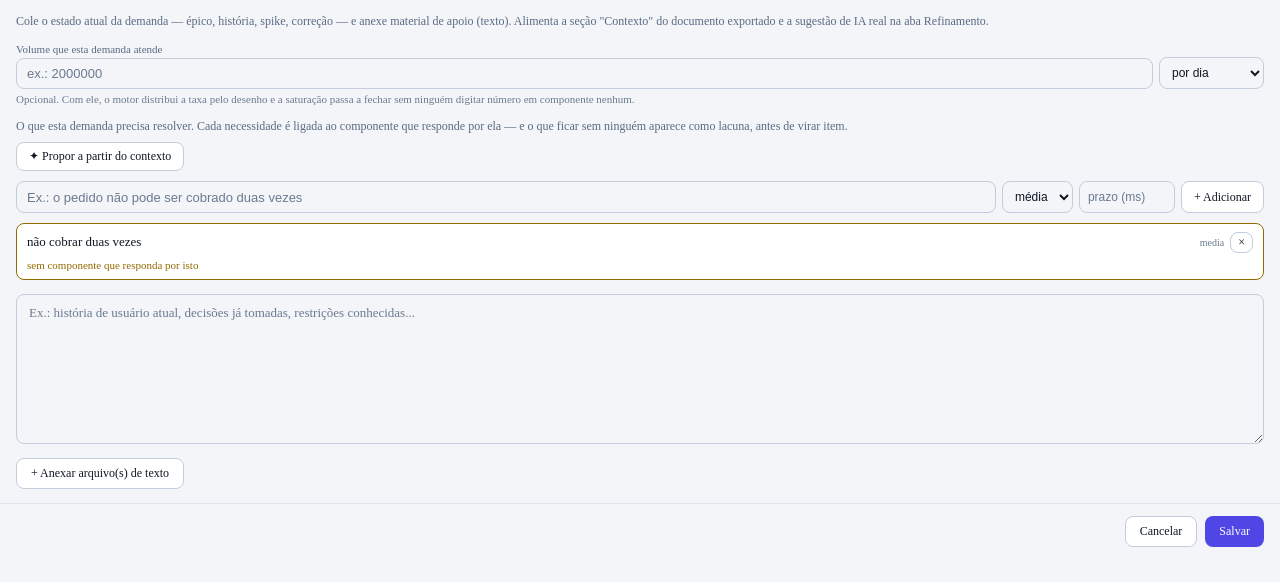
it: ContextoEpicoPanel — a proposta do agente (SPEC-57 fatia D) › falha do agente é dita ali, e não apaga o que já estava escrito
The image size is (1280, 582).
Click the button "✦ Propor a partir do contexto" at (100, 156), box [16, 142, 184, 171]
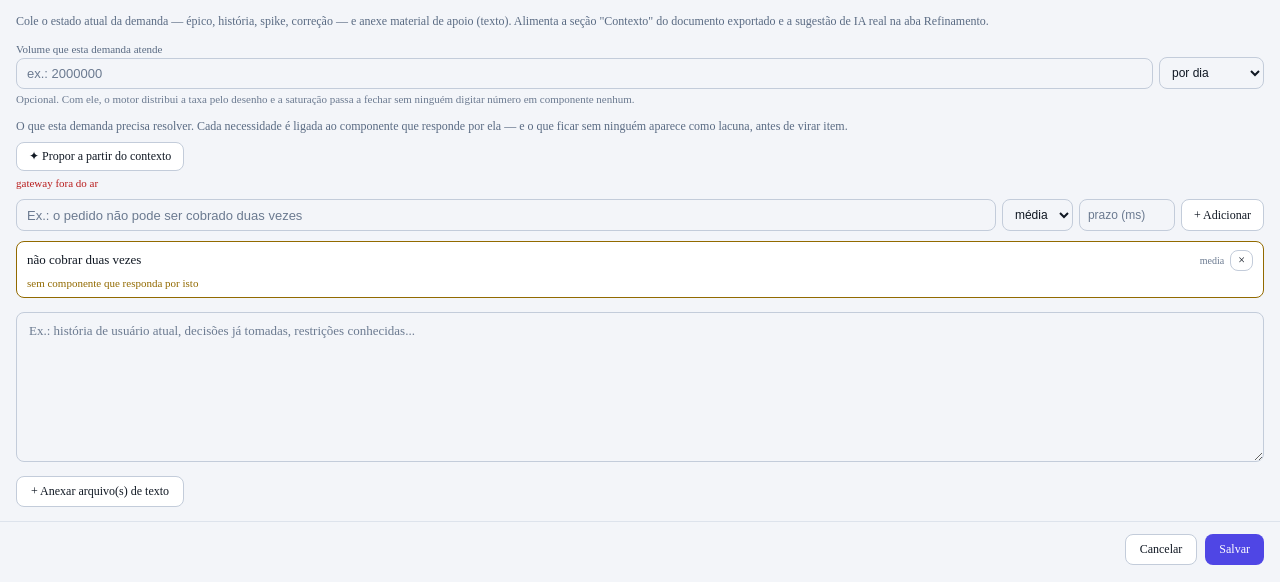
expect the text "não cobrar duas vezes" is shown: met, box [27, 252, 141, 267]
expect the text "gateway fora do ar" is shown: met, box [16, 177, 98, 189]
